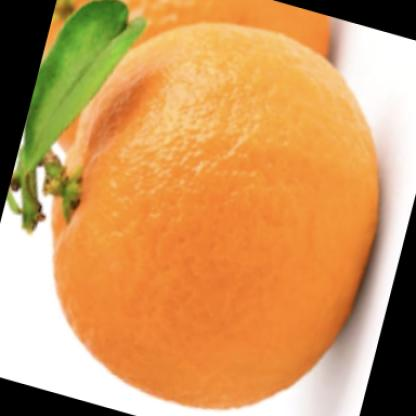fresh: (53, 24, 380, 413)
